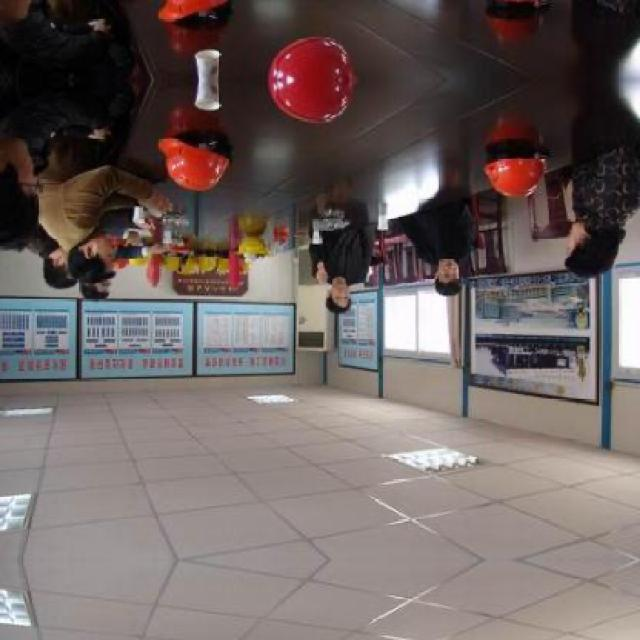sin casco: (554, 193, 640, 288), (49, 235, 124, 288), (314, 260, 353, 322), (72, 271, 124, 313), (429, 252, 478, 293)
